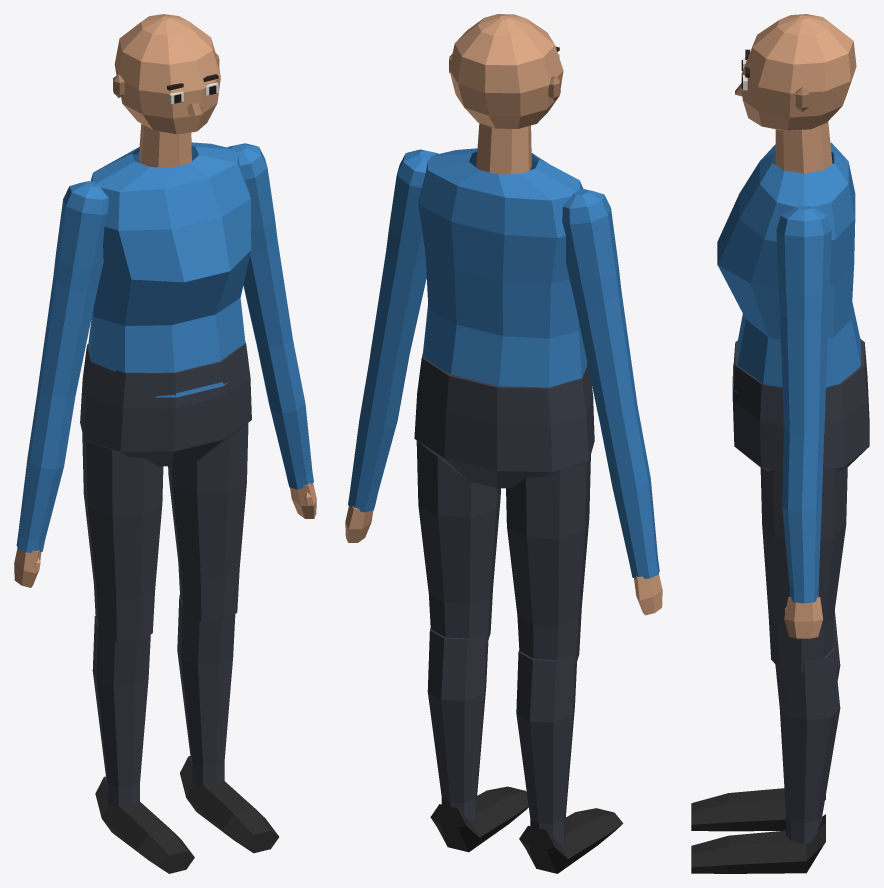
Rendered from adulte_f_moyen.glb.
3 views of the same model, side by side, from view 1: azimuth 30°, elevation 25°; view 2: azimuth 150°, elevation 25°; view 3: azimuth 270°, elevation 25° (orthographic). The views are drawn at different scales.
Visible parts, largest first — view 1: torse, bassin, jambe_d, tete, jambe_g, tibia_g, tibia_d, bras_d, avant_bras_d, bras_g, avant_bras_g; view 2: torse, bassin, jambe_d, tete, tibia_d, tibia_g, jambe_g, bras_d, bras_g, avant_bras_d, avant_bras_g; view 3: torse, tibia_g, tete, bras_g, jambe_g, bassin, avant_bras_g, tibia_d.
Part boxes in pixels (x1=…): torse: x1=88, y1=142, x2=251, y2=397; bassin: x1=80, y1=342, x2=251, y2=466; jambe_d: x1=82, y1=433, x2=163, y2=641; tete: x1=113, y1=14, x2=220, y2=167; jambe_g: x1=168, y1=423, x2=248, y2=621; tibia_g: x1=177, y1=595, x2=279, y2=853; tibia_d: x1=92, y1=616, x2=194, y2=873; bras_d: x1=37, y1=181, x2=108, y2=397; avant_bras_d: x1=14, y1=389, x2=75, y2=587; bras_g: x1=227, y1=143, x2=292, y2=349; avant_bras_g: x1=256, y1=337, x2=316, y2=518; torse: x1=418, y1=148, x2=587, y2=387; bassin: x1=414, y1=353, x2=594, y2=488; jambe_d: x1=506, y1=455, x2=590, y2=664; tete: x1=449, y1=14, x2=563, y2=174; tibia_d: x1=516, y1=650, x2=623, y2=873; tibia_g: x1=427, y1=628, x2=528, y2=852; jambe_g: x1=416, y1=441, x2=500, y2=642; bras_d: x1=562, y1=189, x2=637, y2=418; bras_g: x1=370, y1=149, x2=438, y2=366; avant_bras_d: x1=598, y1=406, x2=662, y2=615; avant_bras_g: x1=345, y1=356, x2=409, y2=542; torse: x1=717, y1=142, x2=860, y2=392; tibia_g: x1=691, y1=648, x2=840, y2=873; tete: x1=735, y1=14, x2=856, y2=173; bras_g: x1=776, y1=206, x2=831, y2=437; jambe_g: x1=760, y1=465, x2=847, y2=672; bassin: x1=732, y1=339, x2=869, y2=471; avant_bras_g: x1=782, y1=430, x2=824, y2=638; tibia_d: x1=691, y1=610, x2=840, y2=831.
Size of the model in its own units: 0.6266 by 1.63 by 0.3178.
Materials: 1 (1 with a texture image).
